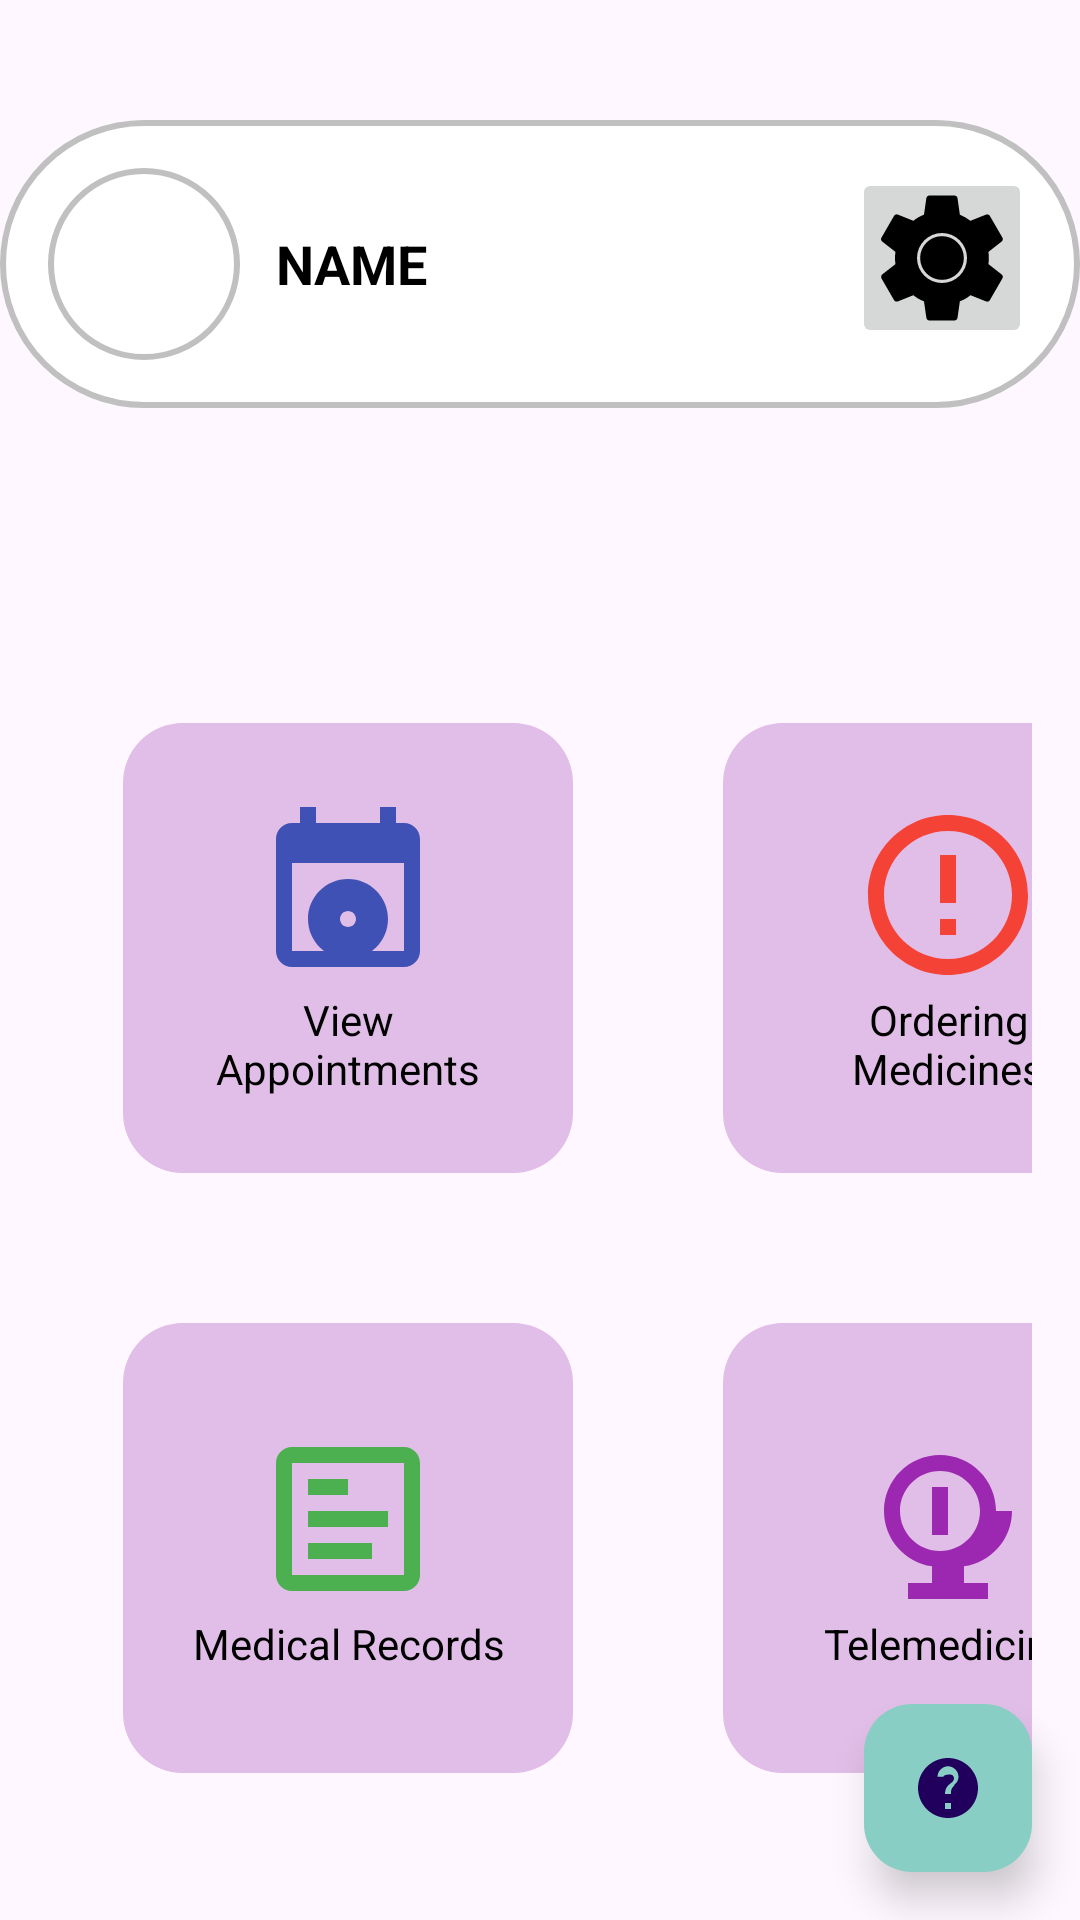

Locate icon controls on the screen. Image size 1080px x 1920px, boxes as (x1, y1, x2, y2).
Booking Appointment: (276, 807, 420, 967)
Settings: (864, 186, 1020, 330)
